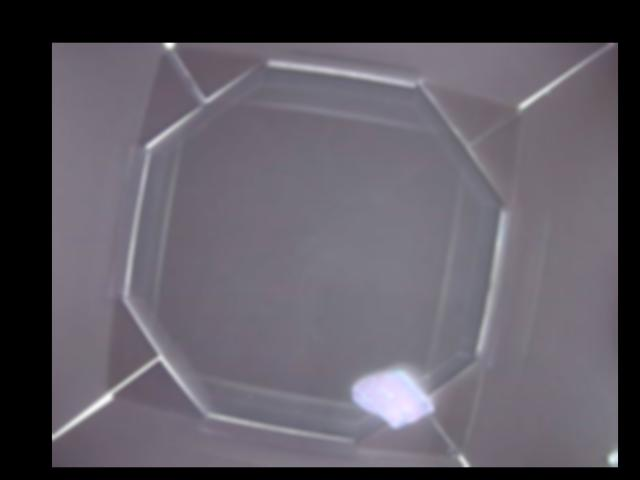China: (354, 366, 439, 429)
